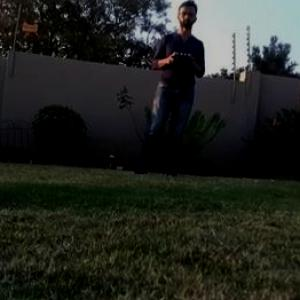follow: (130, 0, 209, 183)
